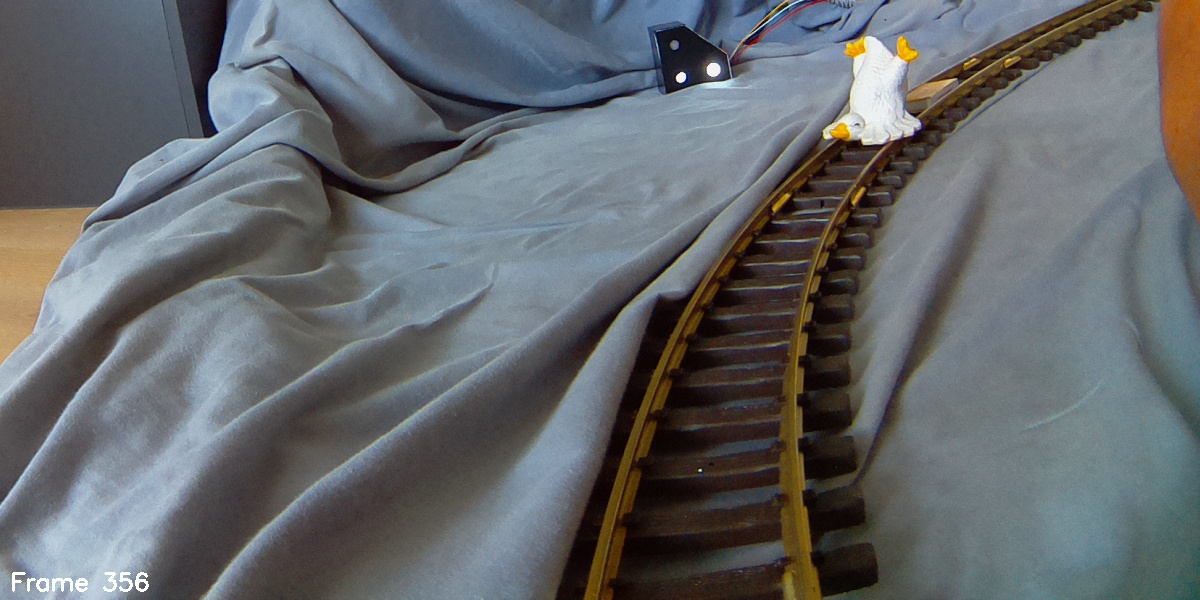Ente: (817, 33, 923, 152)
Halt: (649, 21, 734, 94)
